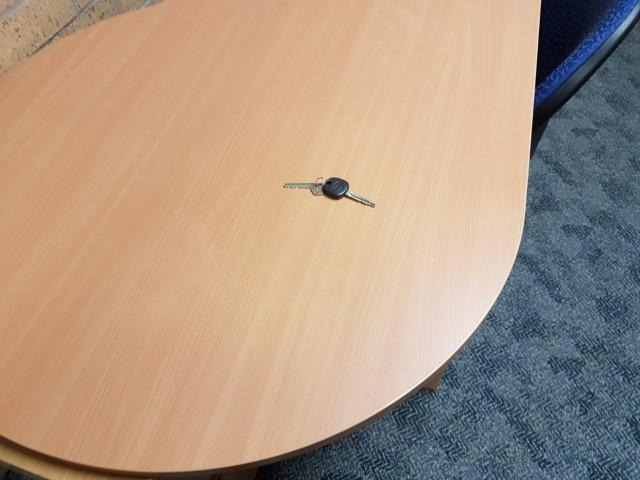key: (324, 177, 376, 208)
